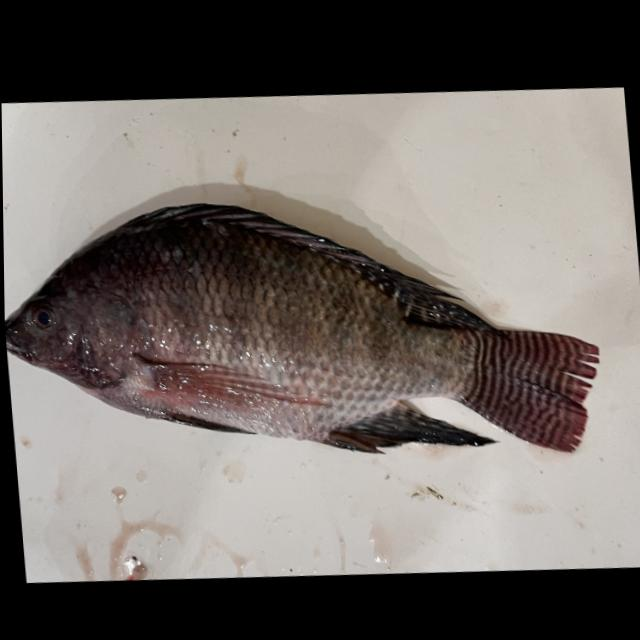Tilapia: (2, 162, 605, 497)
